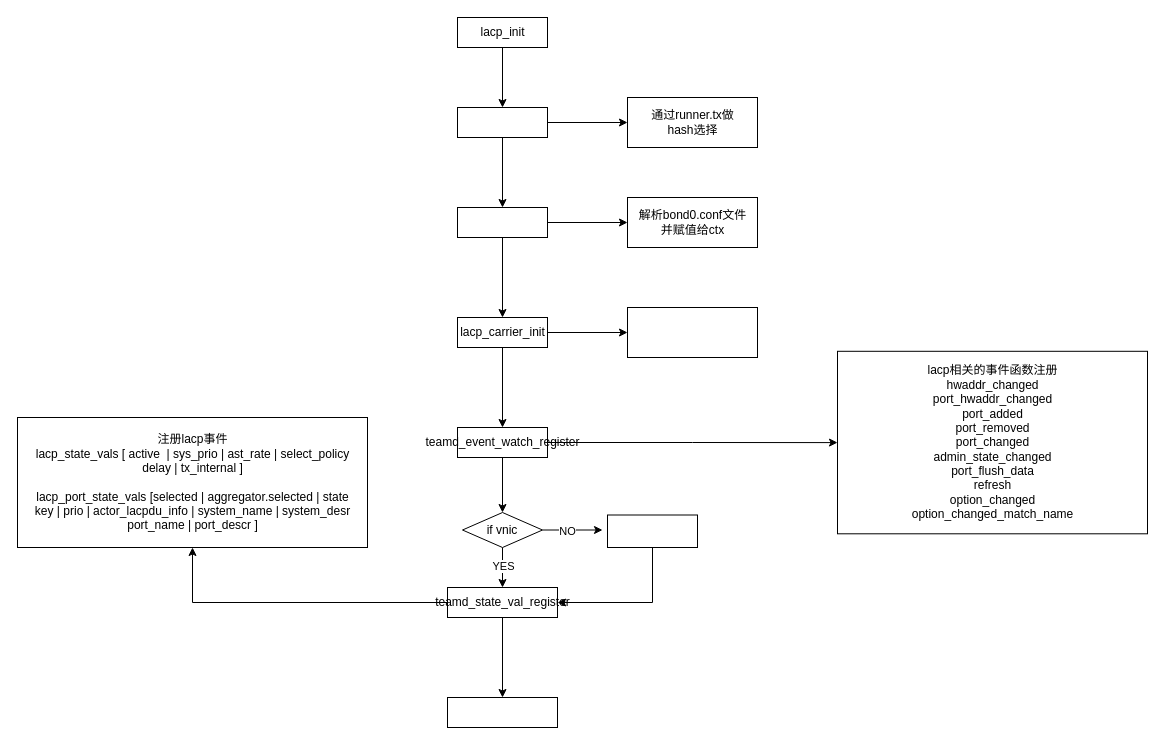
This 1165x745 diagram has some shape labels left out. Here are the shapes that lost their labels. From the top down, the centre of each, then its label:
At pixel 502 122: "teamd_hash_func_set".
At pixel 502 222: "lacp_load_config".
At pixel 692 332: "热重启标记位 置位 warm_start_carrier = true carrier_up = true".
At pixel 652 531: "teamd_balancer_init".
At pixel 502 712: "balancer_fini".
